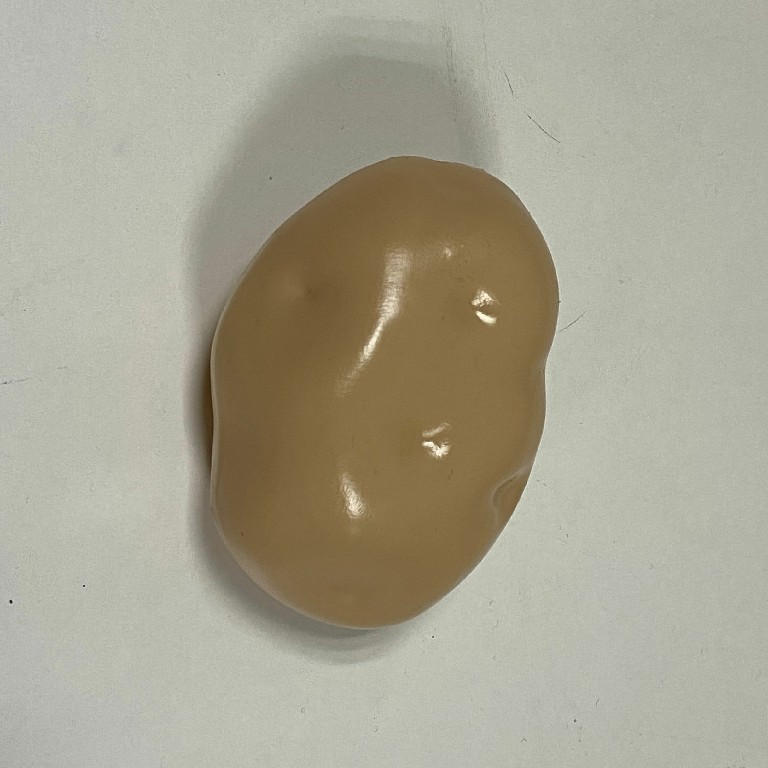fruit_potato: (196, 150, 564, 633)
